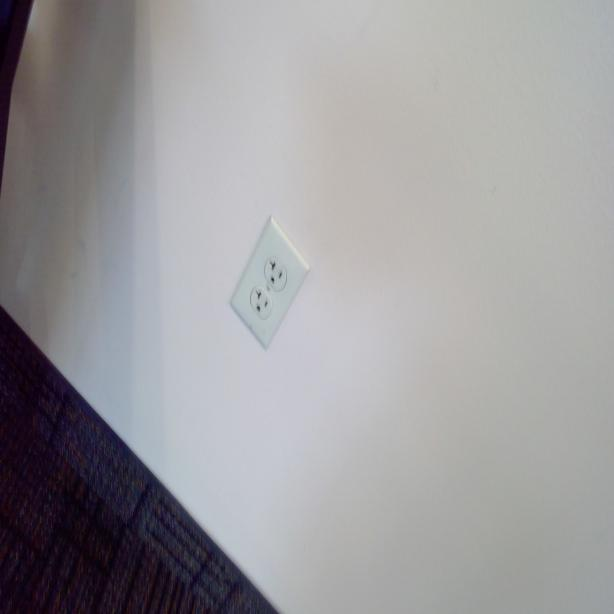typeb: (250, 288, 273, 318), (265, 254, 286, 286)
